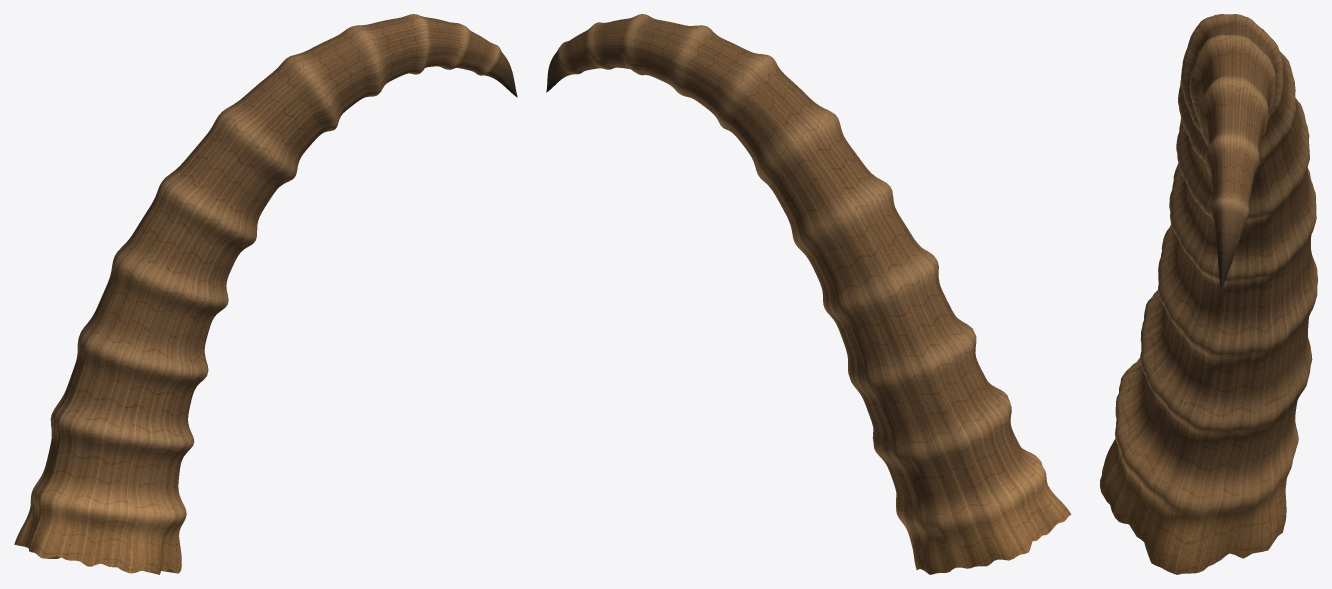
The model's file is ibex_horn.glb.
3 renders of one model, left to right at view 1: azimuth 30°, elevation 25°; view 2: azimuth 150°, elevation 25°; view 3: azimuth 270°, elevation 25°, orthographic. The views are drawn at different scales.
Visible parts, largest first — view 1: ibex_horn natural keratin; view 2: ibex_horn natural keratin; view 3: ibex_horn natural keratin.
Part boxes in pixels (<box>): ibex_horn natural keratin: <box>14,14,517,574</box>; ibex_horn natural keratin: <box>546,14,1071,574</box>; ibex_horn natural keratin: <box>1100,14,1317,574</box>.
Bounding box in the file's own units: 0.706 × 0.6424 × 0.1869.
3 materials, 3 textured.
